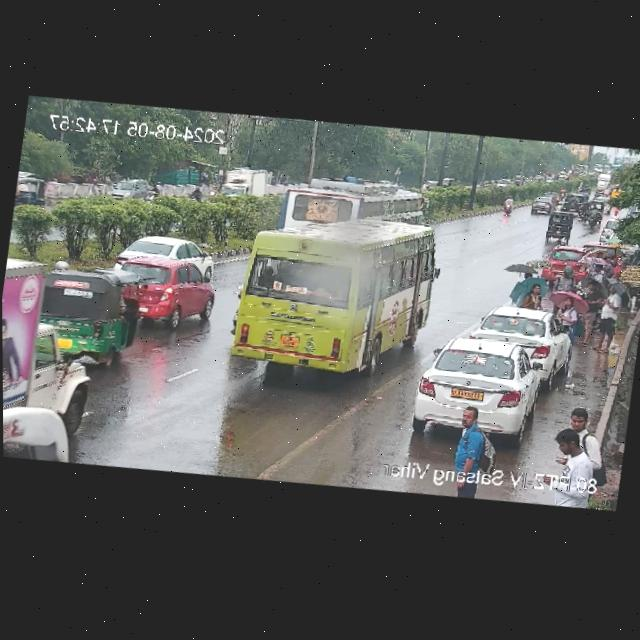bus: (219, 191, 444, 389)
car: (412, 327, 561, 448), (27, 259, 137, 378), (113, 252, 221, 341), (466, 300, 573, 374), (112, 226, 221, 279), (105, 168, 153, 207), (545, 243, 587, 282), (14, 167, 51, 211), (541, 209, 573, 242), (529, 194, 560, 218), (561, 191, 587, 216)
motorcycle: (500, 189, 521, 220), (586, 207, 599, 228)
person: (548, 404, 607, 484), (443, 404, 503, 475), (582, 280, 629, 352), (553, 295, 584, 347), (522, 280, 548, 312)
truck: (217, 162, 267, 204)
